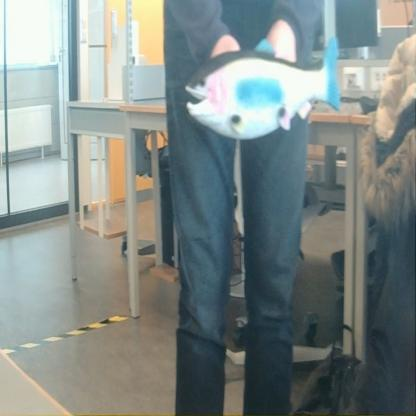rubberfish: (183, 26, 345, 144)
